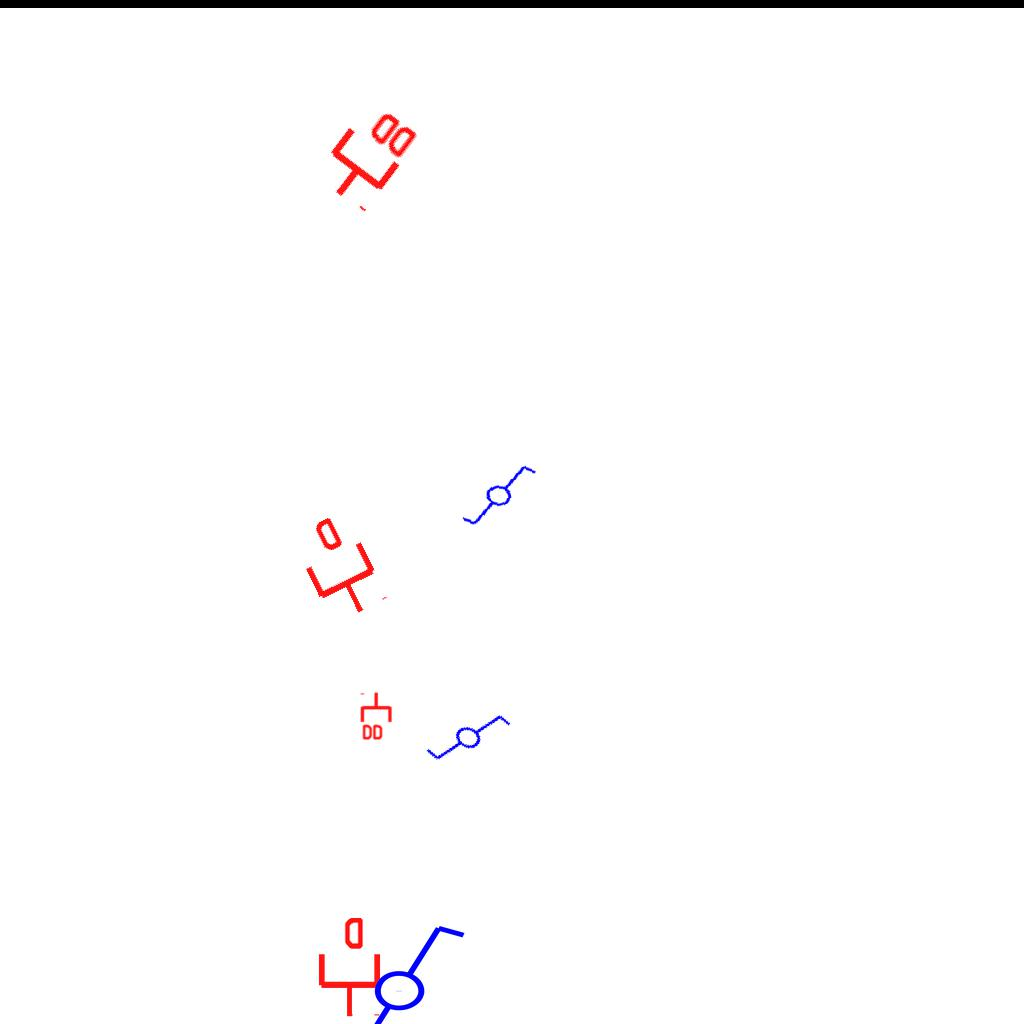Datenanschluss_einfach: (286, 507, 393, 629), (315, 918, 384, 1018)
Datenanschluss_zweifach: (307, 92, 426, 217), (360, 691, 394, 742)
Wechselschalter: (329, 921, 486, 1024), (414, 686, 516, 784), (450, 452, 540, 536)
